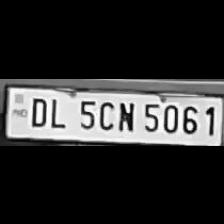0: (160, 100, 178, 132)
1: (200, 102, 218, 136)
5: (73, 95, 97, 129), (138, 98, 160, 132)
6: (178, 100, 198, 134)
C: (95, 97, 115, 130)
D: (26, 93, 48, 127)
L: (47, 94, 69, 128)
N: (114, 97, 136, 131)
